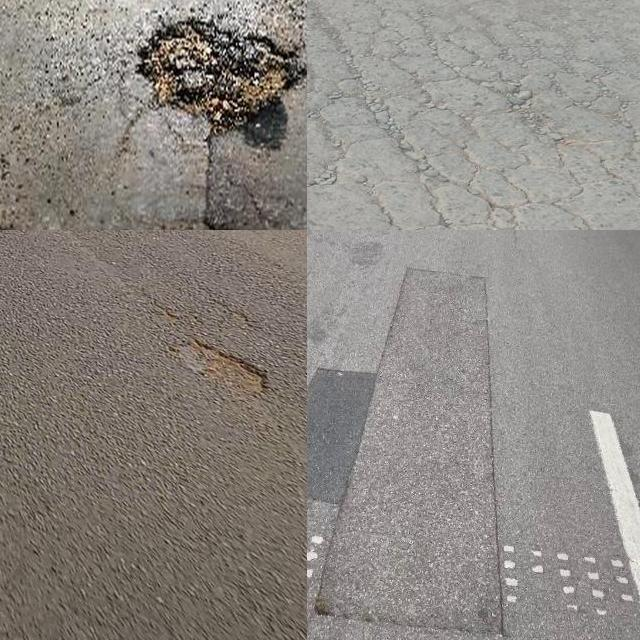Lubang: (133, 27, 306, 152), (174, 338, 274, 404)
Retak Buaya: (307, 0, 640, 230)
Sambungan: (312, 271, 500, 636), (307, 368, 378, 505)
